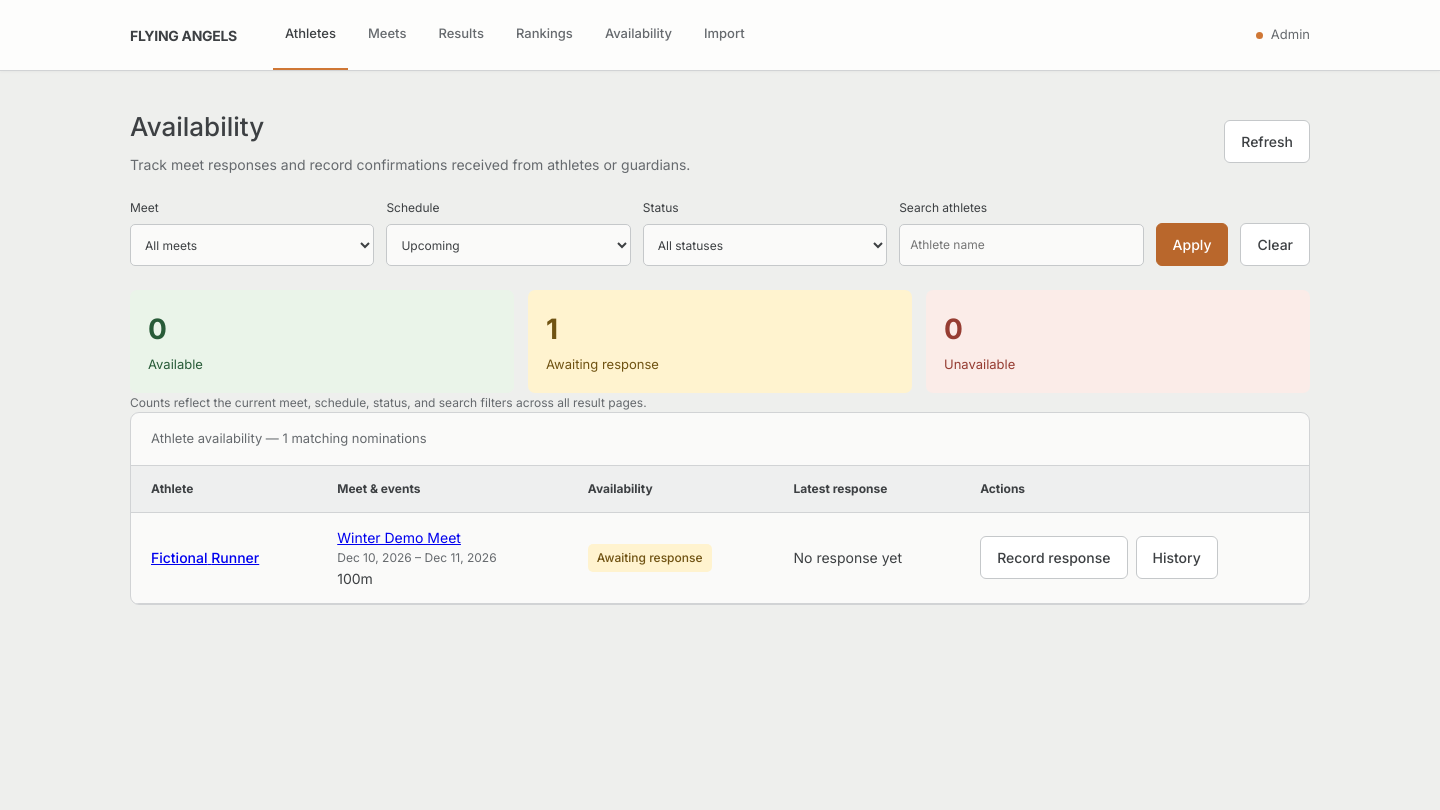
Test case: applies meet and athlete filters together and shows staff audit history
Check: the table is shown, box [131,413,1309,604]
Select "Winter Demo Meet" in the dropdown labelled "Meet" at (252, 245), box [130,224,374,266]
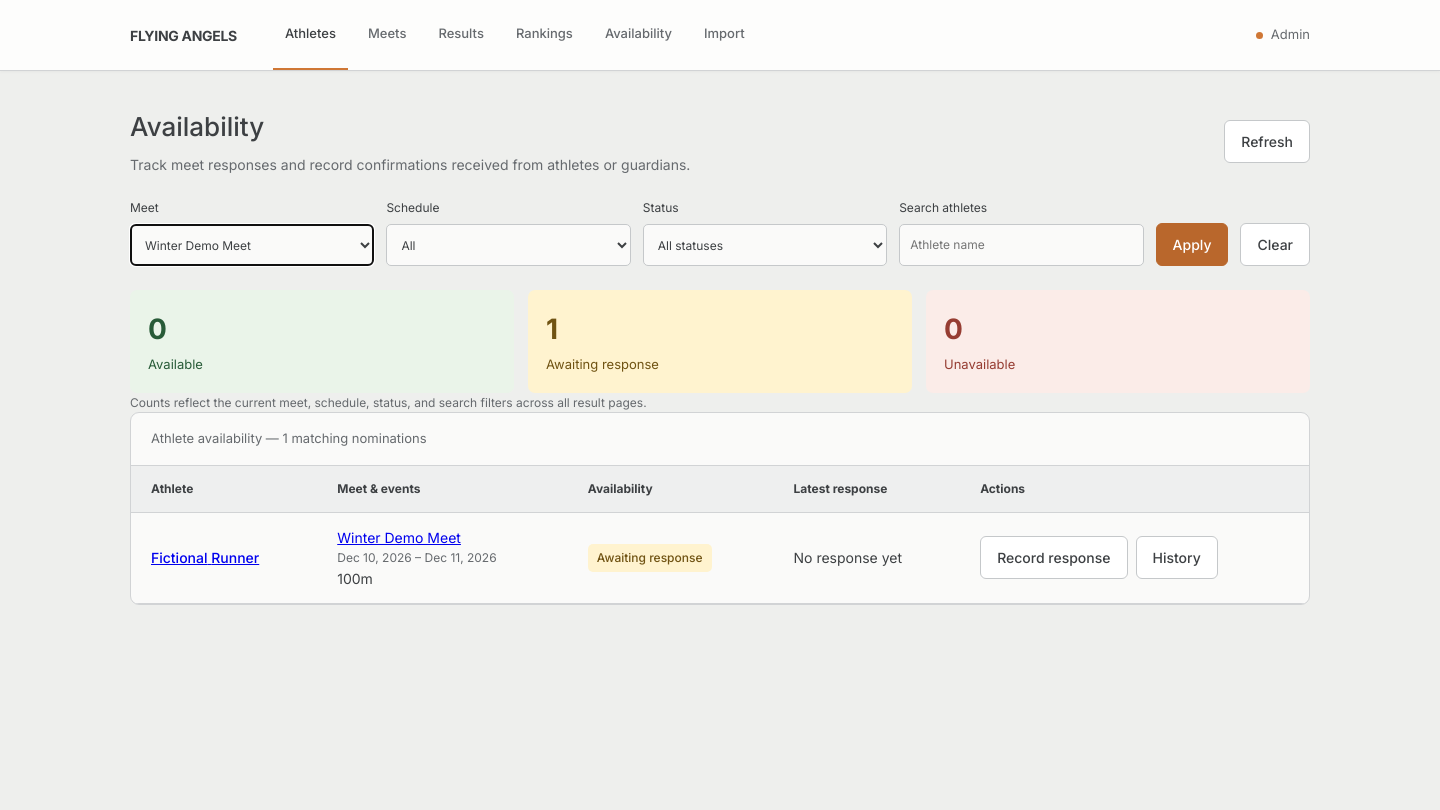
Type "Runner" into the search field labelled "Search athletes" at (1021, 245), box [899,224,1144,266]
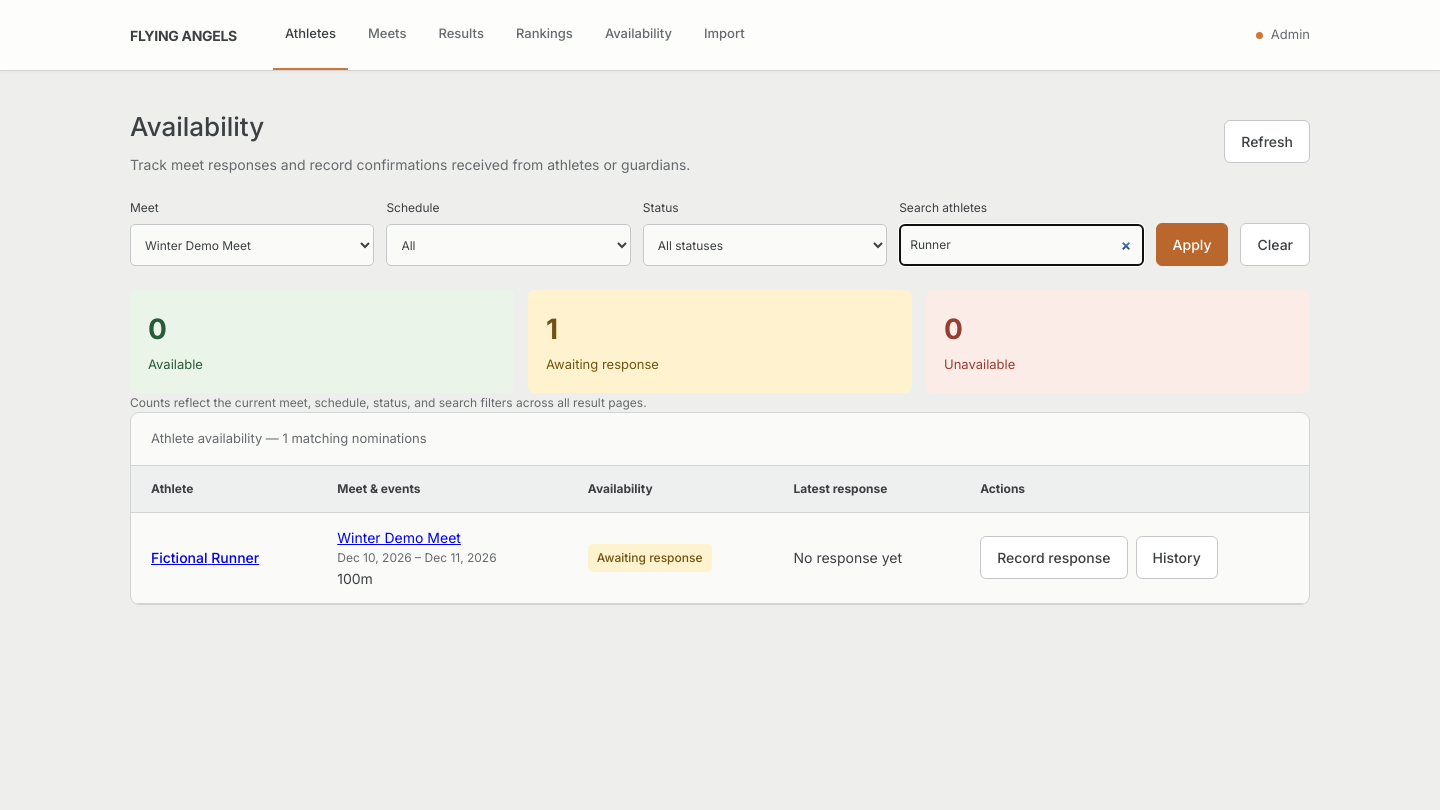
Click the button "Apply" at (1192, 244), box [1156,223,1228,266]
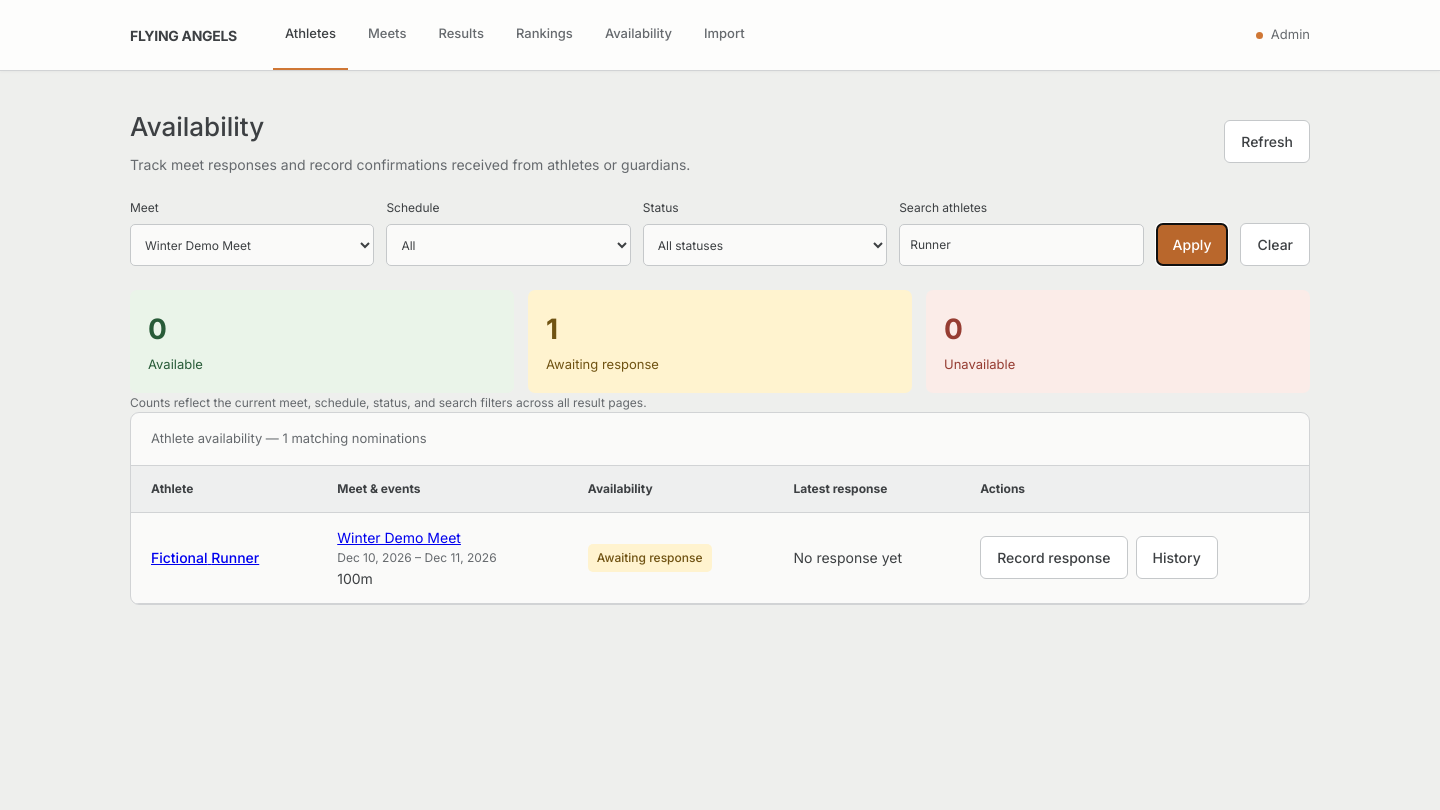
Check: the table is shown, box [131,413,1309,604]
Click the button "History" at (1177, 558), box [1136,536,1218,579]
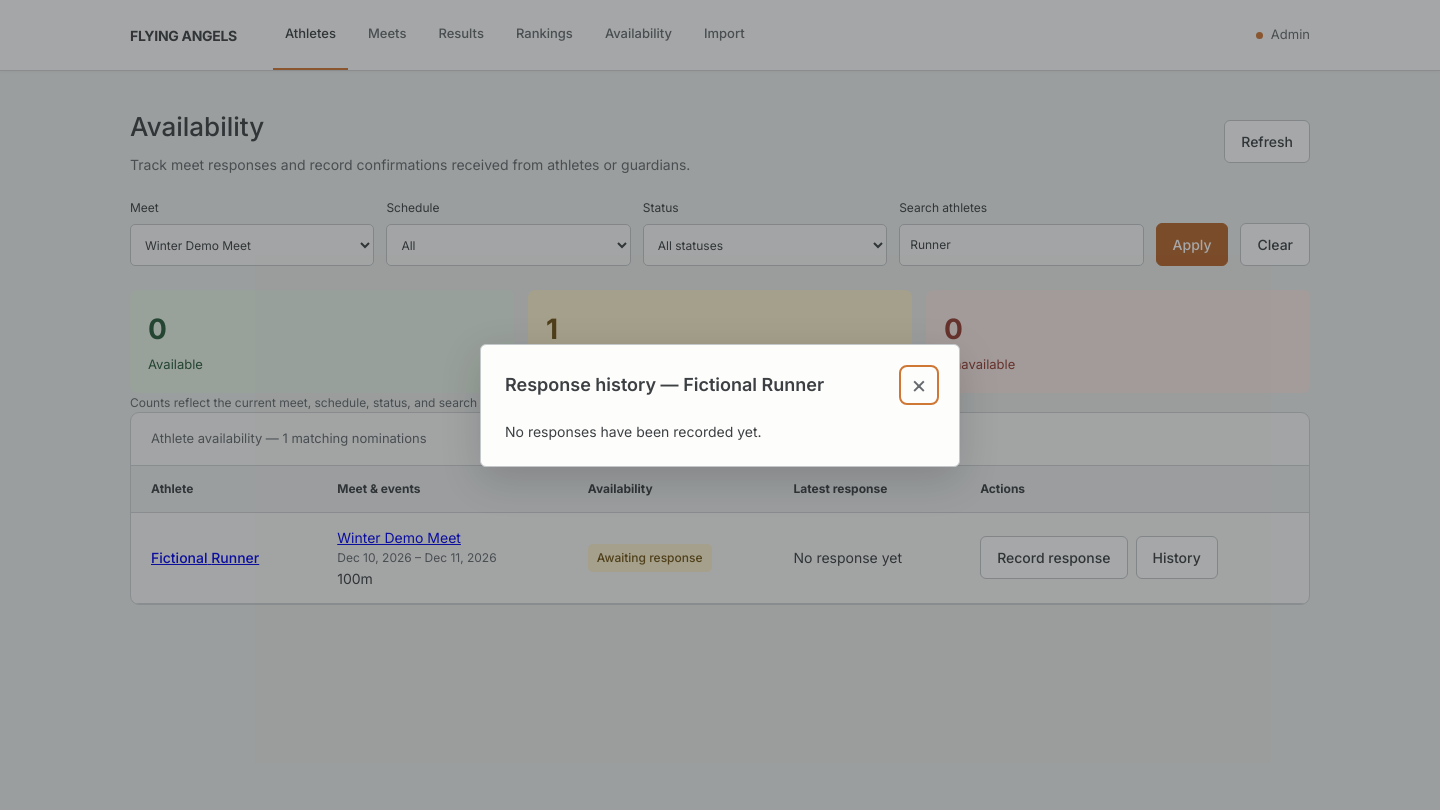
Check: the text "No responses have been recorded yet." is shown, box [505,422,762,440]
